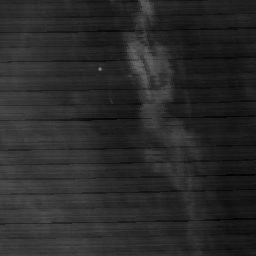Target: (96, 66, 102, 72)
